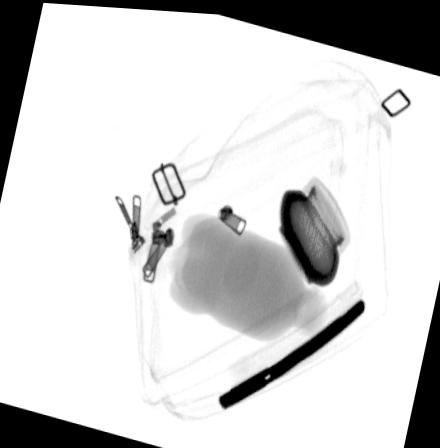Pliers: (217, 291, 367, 407)
